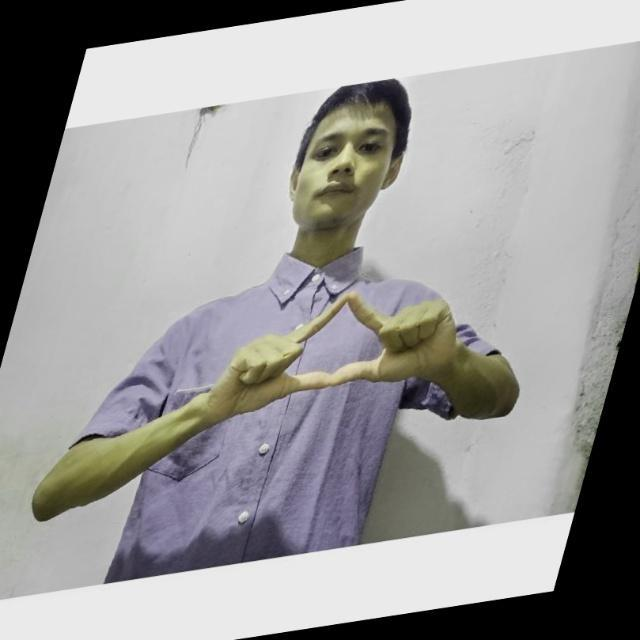A: (206, 269, 492, 438)
